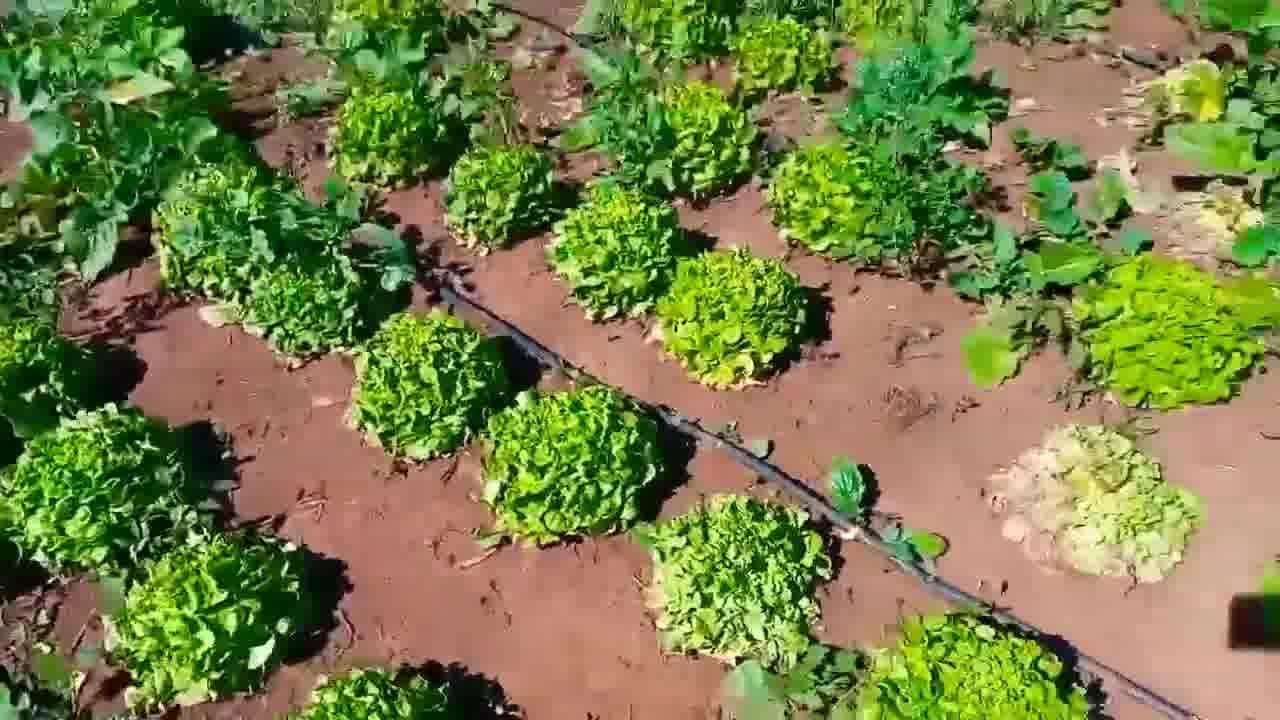Healthy: (644, 494, 845, 666), (464, 380, 662, 550), (110, 528, 294, 706), (0, 403, 186, 574), (342, 301, 514, 471), (641, 237, 811, 393), (154, 151, 304, 303), (1094, 262, 1248, 402), (551, 181, 691, 328), (239, 231, 385, 363), (763, 149, 908, 270), (430, 130, 565, 258), (611, 81, 759, 195), (332, 81, 450, 195), (734, 17, 831, 100)
